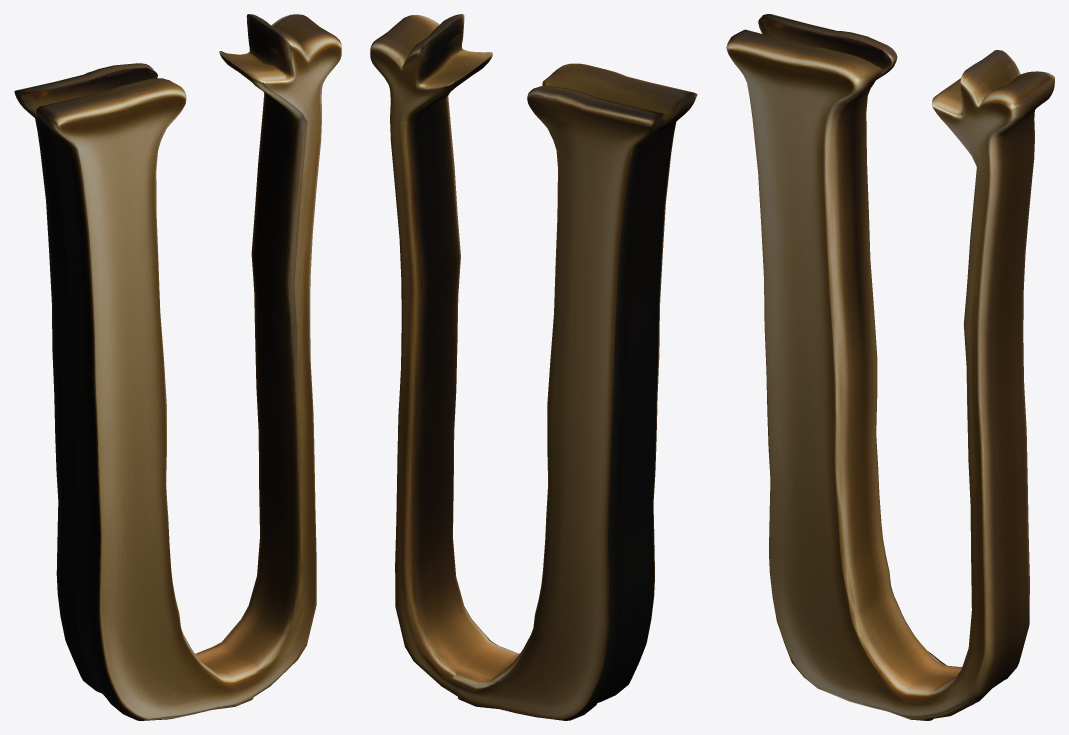
File: U_LETTER.glb
3 views of the same model, side by side, from view 1: azimuth 30°, elevation 25°; view 2: azimuth 150°, elevation 25°; view 3: azimuth 330°, elevation 25° (orthographic).
Visible parts, largest first — view 1: eb30007a_ee6a_41b1_99bb_782f41501b0a; view 2: eb30007a_ee6a_41b1_99bb_782f41501b0a; view 3: eb30007a_ee6a_41b1_99bb_782f41501b0a.
Part boxes in pixels (left/top/right/bottom): eb30007a_ee6a_41b1_99bb_782f41501b0a: left=14, top=14, right=341, bottom=720; eb30007a_ee6a_41b1_99bb_782f41501b0a: left=370, top=14, right=697, bottom=720; eb30007a_ee6a_41b1_99bb_782f41501b0a: left=726, top=14, right=1054, bottom=720.
Size of the model in its own units: 0.4634 by 0.9995 by 0.1245.
Materials: 1 (1 with a texture image).
